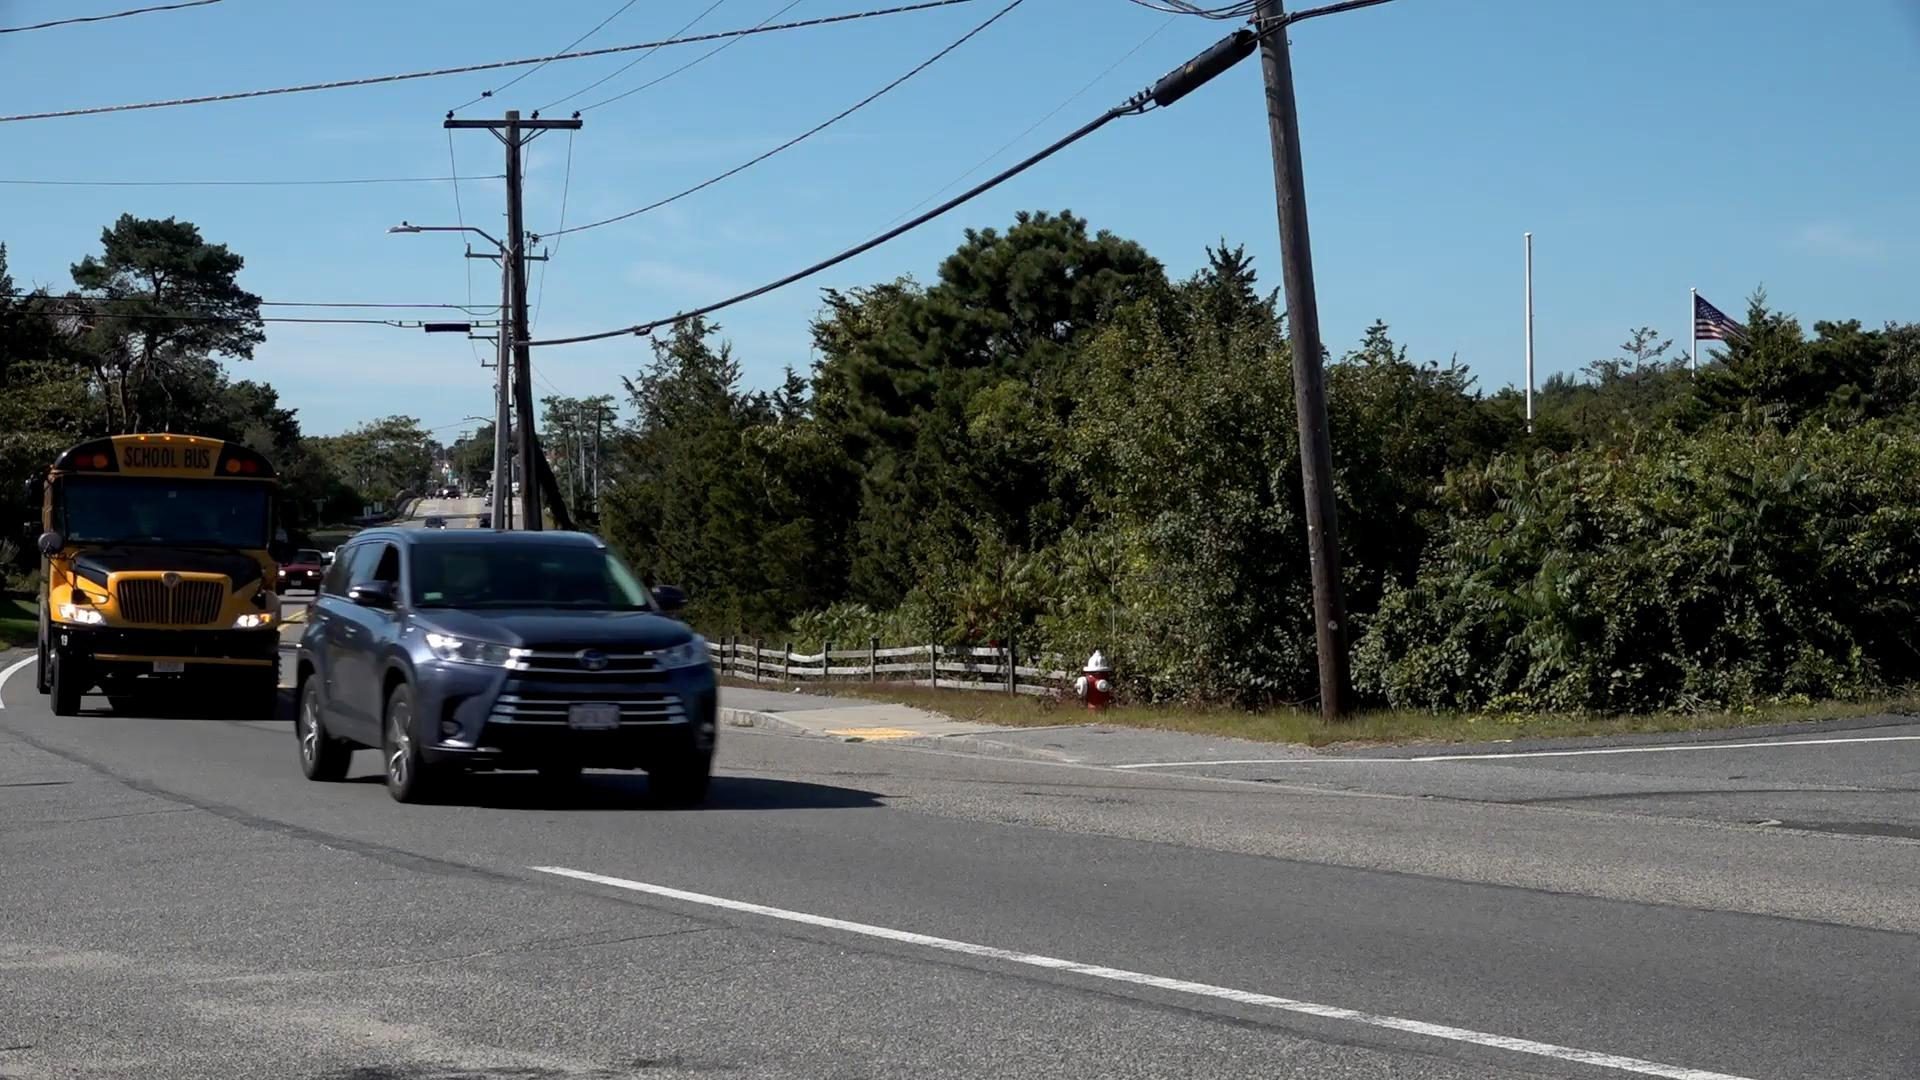suv: (306, 531, 719, 795)
truck: (40, 433, 285, 711)
